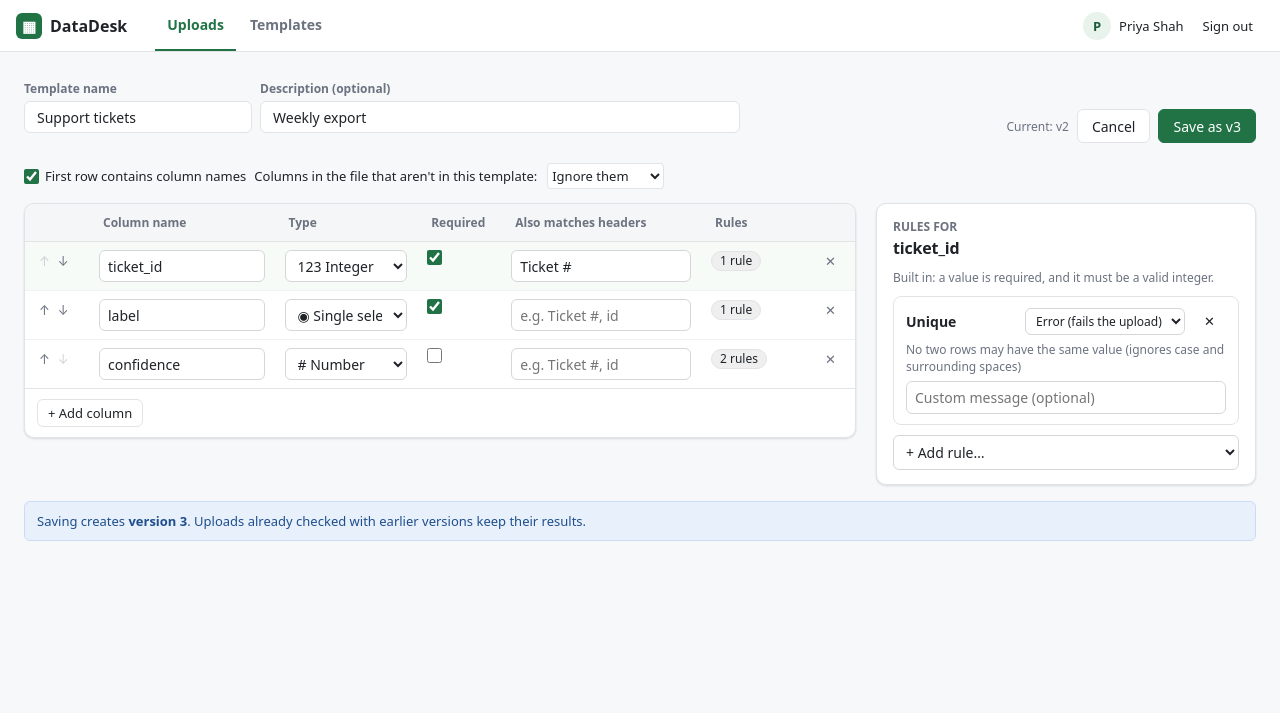
Test case: TemplateEditorPage: editing › loads the saved template and saves the edit as the next version
The image size is (1280, 713).
Later steps or results of the test are not shown.
Expected: the field labelled "Template name" holds "Support tickets", [24, 101, 252, 133]
Expected: the text "Current: v2" is shown, [1006, 118, 1069, 134]
What coordinates should you click on to do the following:
click the field named "Column 3 name"
I would click on:
 (182, 364)
Its box is [99, 348, 264, 380].
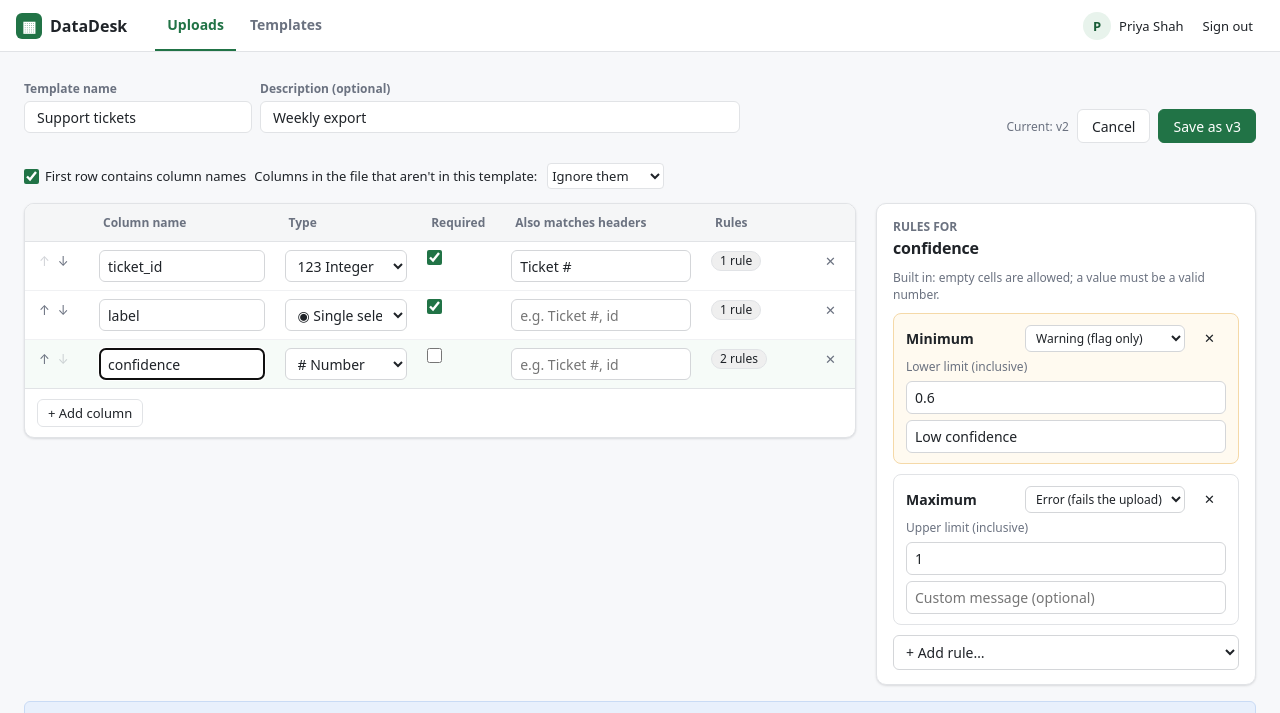
Now the number field named "Minimum value" holds "0.6", box [906, 381, 1226, 414]
Now the dropdown named "Severity" next to "Minimum" shows "Warning (flag only)", box [1025, 324, 1185, 352]
